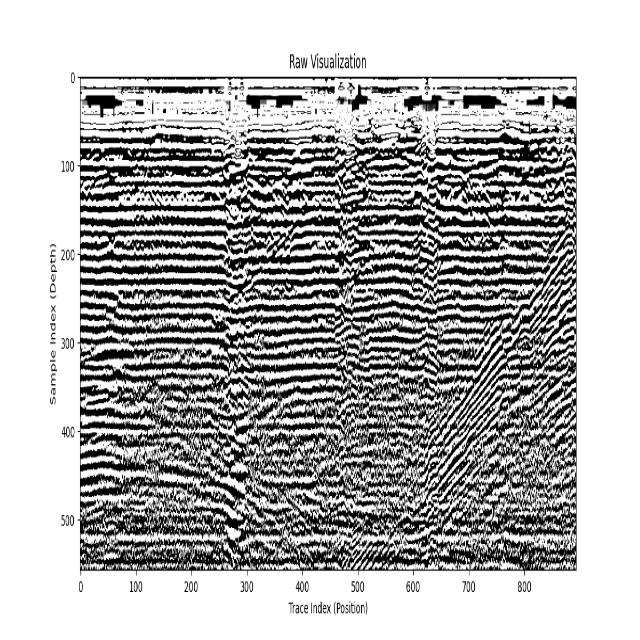anomaly: (342, 228, 573, 573), (221, 147, 247, 580)
